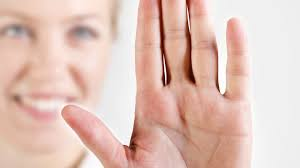palm: (142, 91, 242, 163)
